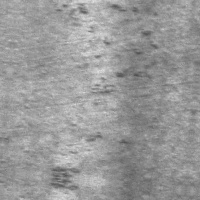rolled-in_scale: (47, 0, 162, 100), (49, 126, 130, 185)
